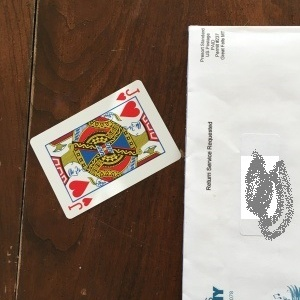card: (29, 79, 182, 221)
